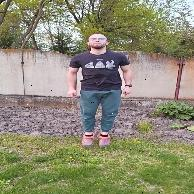high_jumps: (50, 28, 148, 165)
